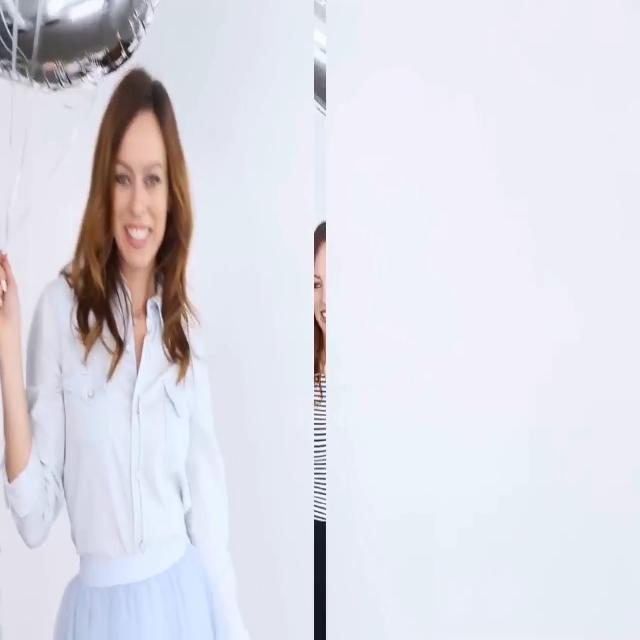Shirt: (0, 242, 250, 640)
